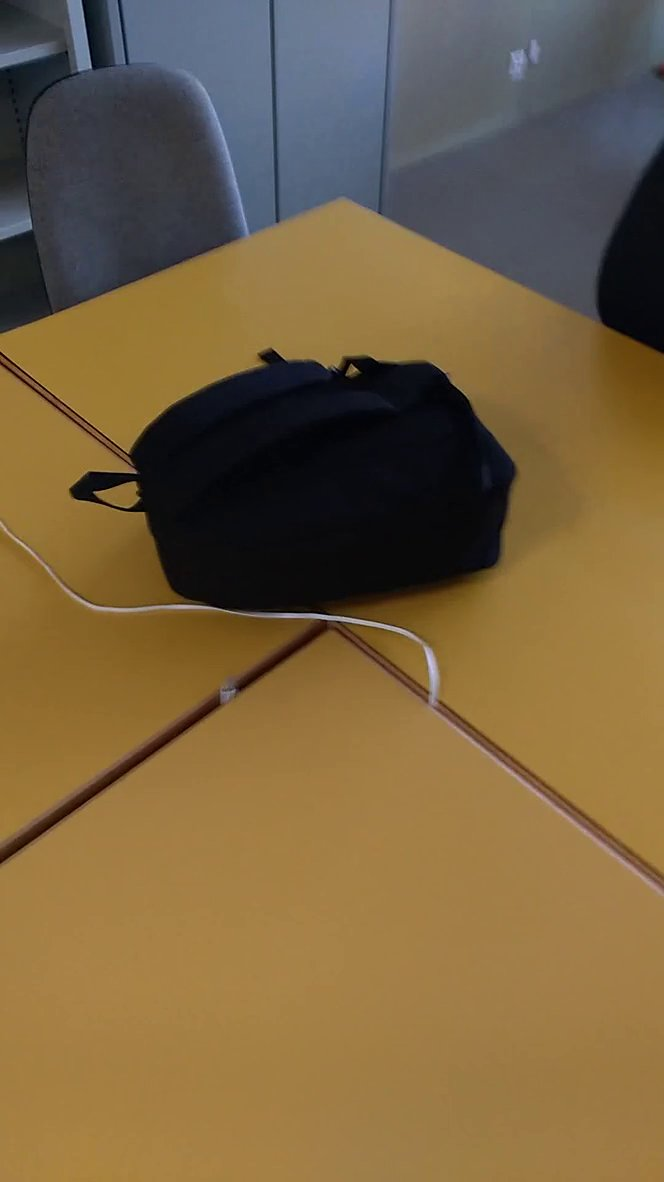bag: (54, 326, 532, 623)
chair: (18, 52, 273, 318)
